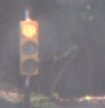Red: (14, 16, 45, 84)
